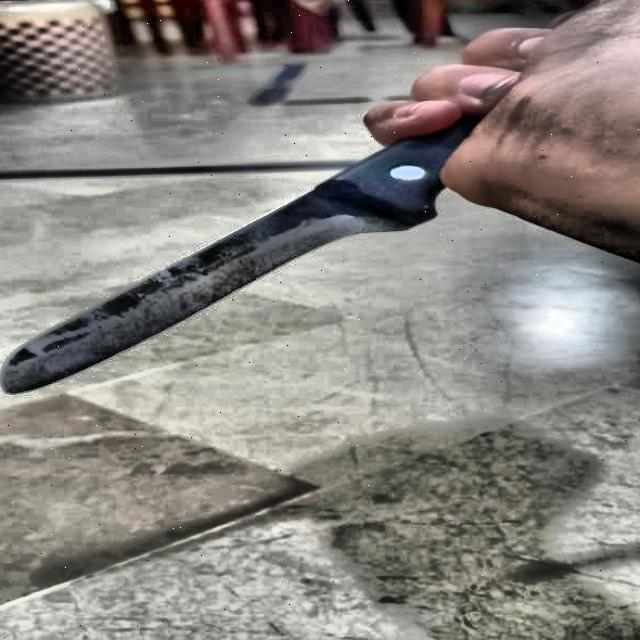knife: (4, 116, 488, 394)
